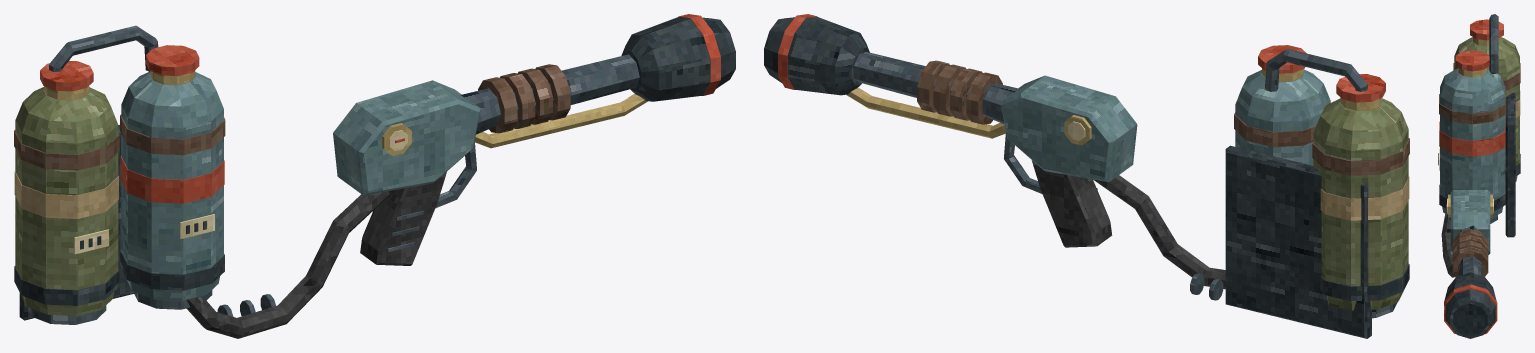
Rendered from 12_flamya_1.glb.
3 views of the same model, side by side, from view 1: azimuth 30°, elevation 25°; view 2: azimuth 150°, elevation 25°; view 3: azimuth 270°, elevation 25° (orthographic). The views are drawn at different scales.
Parts seen in each view (by area): view 1: 12_flamya_1; view 2: 12_flamya_1; view 3: 12_flamya_1.
Boxes of the visible parts, x1,y1,x2,y2 form: 12_flamya_1: [14, 14, 735, 338]; 12_flamya_1: [764, 14, 1409, 338]; 12_flamya_1: [1438, 14, 1520, 338].
Size of the model in its own units: 0.9241 by 0.3918 by 0.1435.
Materials: 1 (1 with a texture image).
